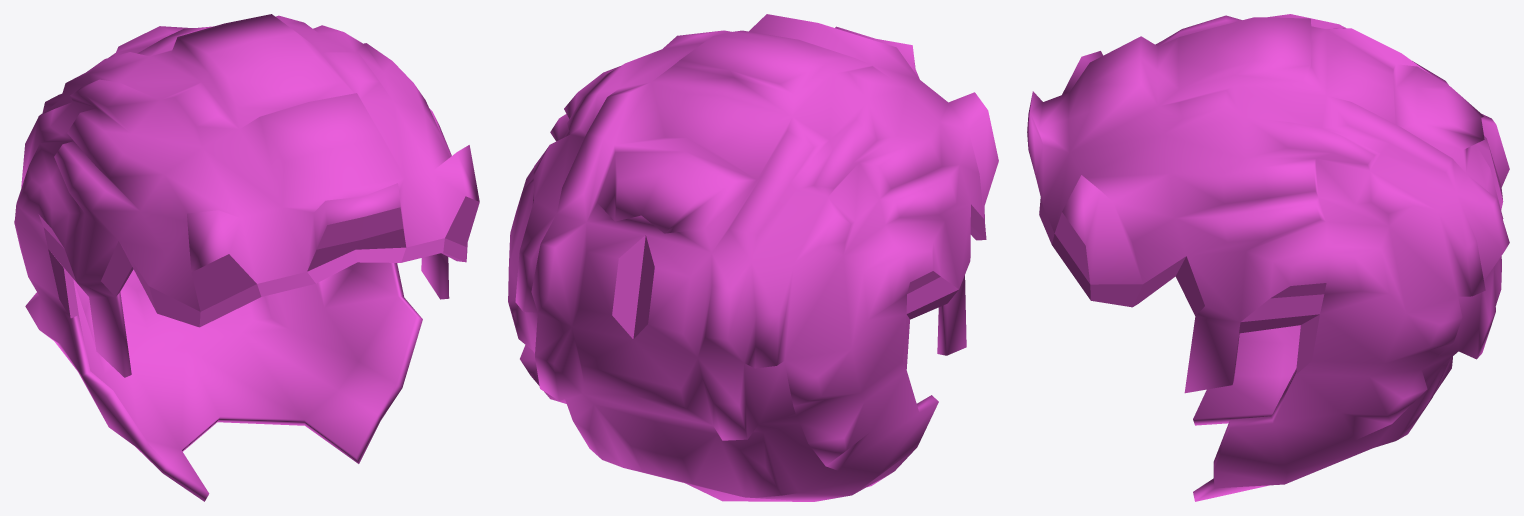
The model's file is character hair 12.fbx.
The picture shows the model from 3 angles, left to right: view 1: azimuth 30°, elevation 25°; view 2: azimuth 150°, elevation 25°; view 3: azimuth 270°, elevation 25°; orthographic projection. The views are drawn at different scales.
Visible parts, largest first — view 1: hair12; view 2: hair12; view 3: hair12.
Boxes of the visible parts, left/top/right/bottom form: hair12: left=14, top=14, right=479, bottom=501; hair12: left=508, top=14, right=998, bottom=501; hair12: left=1027, top=14, right=1509, bottom=501.
Size of the model in its own units: 0.4106 by 0.4516 by 0.4628.
